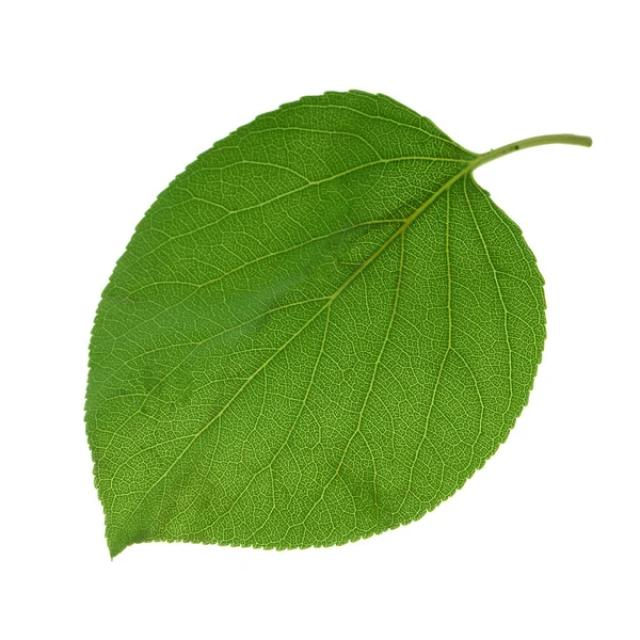kayisi yapragi: (88, 68, 551, 586)
